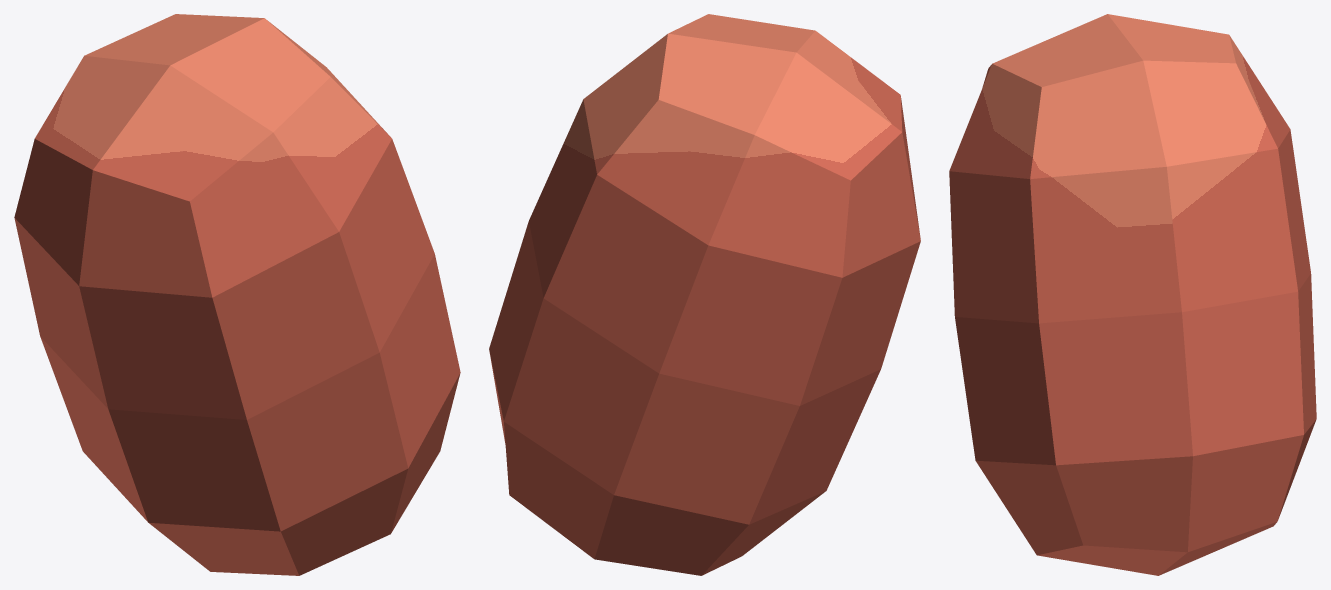
Rendered from seed.glb.
The picture shows the model from 3 angles, left to right: view 1: azimuth 30°, elevation 25°; view 2: azimuth 150°, elevation 25°; view 3: azimuth 270°, elevation 25°; orthographic projection. The views are drawn at different scales.
Visible parts, largest first — view 1: Plane; view 2: Plane; view 3: Plane.
Boxes of the visible parts, x1,y1,x2,y2 form: Plane: [14, 14, 460, 575]; Plane: [489, 14, 920, 575]; Plane: [949, 14, 1316, 575].
Size of the model in its own units: 0.1277 by 0.17 by 0.1135.
Materials: 1 (1 with a texture image).
